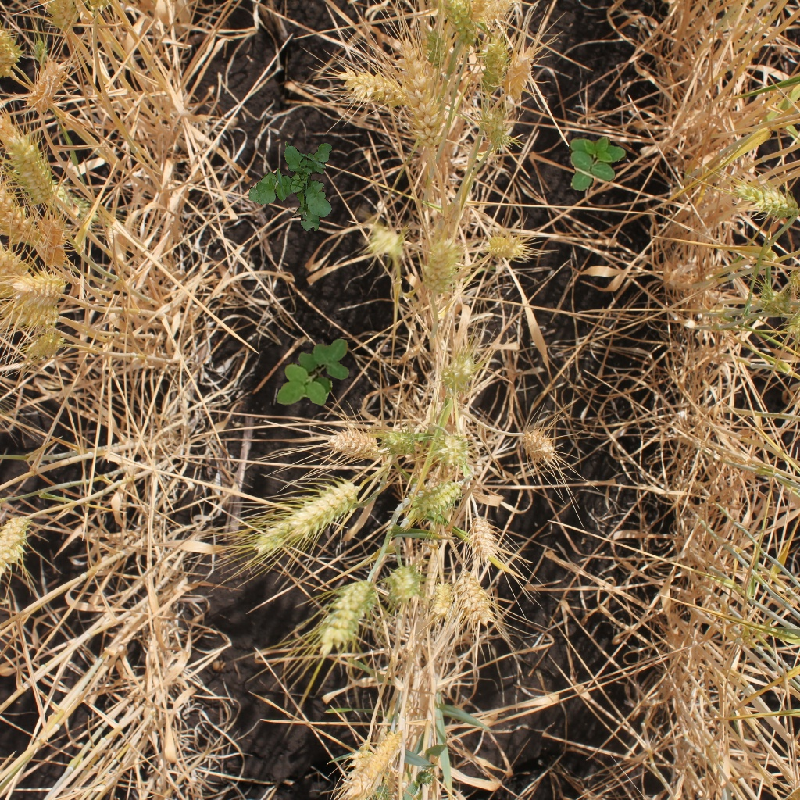spikelet: (253, 479, 360, 553), (663, 662, 729, 771), (396, 45, 446, 151), (315, 577, 377, 654), (6, 133, 55, 204), (341, 69, 406, 108), (736, 179, 799, 219), (453, 568, 495, 627), (406, 477, 463, 520), (338, 740, 379, 799), (25, 58, 70, 111), (422, 236, 461, 295), (1, 178, 36, 242), (1, 513, 31, 581), (327, 426, 381, 460), (12, 268, 69, 300), (478, 35, 509, 92), (35, 214, 71, 262), (440, 1, 477, 46), (467, 512, 500, 562), (384, 561, 423, 603), (516, 424, 558, 462), (439, 353, 476, 395), (476, 105, 512, 148), (12, 296, 60, 328), (437, 429, 473, 470), (502, 51, 534, 96), (365, 222, 404, 258), (661, 255, 702, 289), (484, 228, 526, 261), (423, 24, 451, 69), (757, 287, 794, 318), (428, 580, 455, 620), (470, 1, 514, 25), (1, 244, 28, 282), (384, 425, 418, 455), (43, 1, 79, 29), (1, 22, 22, 69), (78, 1, 114, 11)
weed: (234, 126, 358, 249), (271, 340, 349, 411), (569, 136, 627, 191)
